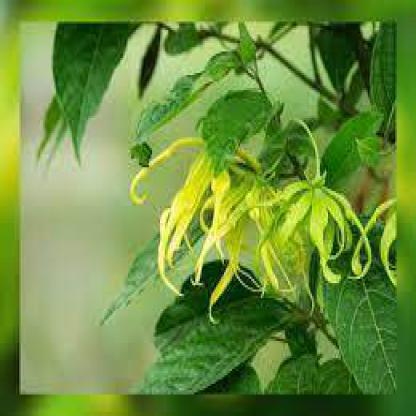Kenanga: (177, 123, 271, 295), (262, 169, 355, 291)
